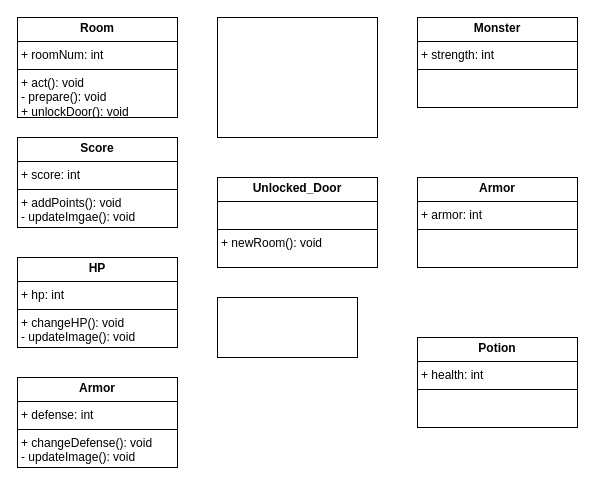
Some shapes in this 595 by 485 pixel diagram are drawn without their labels. The centre of each missing label's shape, as x and y in pixels:
"Locked_Door" goes at pixel 287 327.
"Player + increment: int + act(): void + movePlayer(): void" goes at pixel 297 77.
